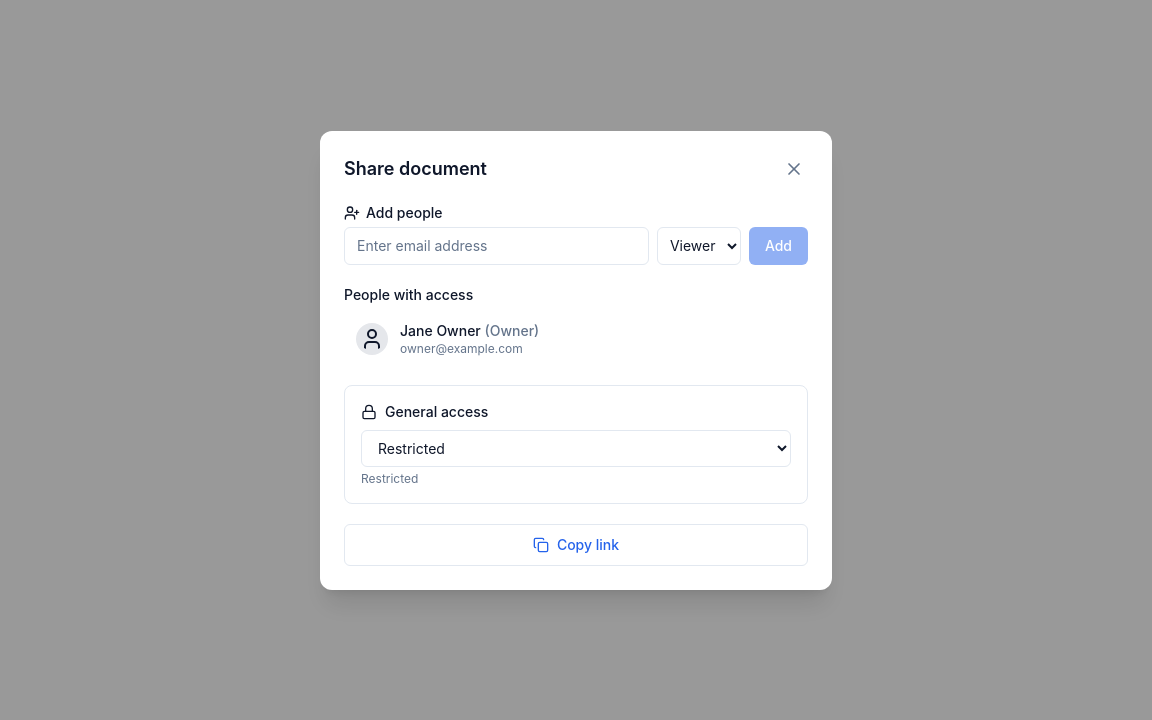
Test: ShareDialog › add collaborator error: shows exact error detail from API response
This screenshot has width=1152, height=720.
Type "bad@example.com" into the field with placeholder "Enter email address" at (496, 246), box x1=344 y1=226 x2=649 y2=264
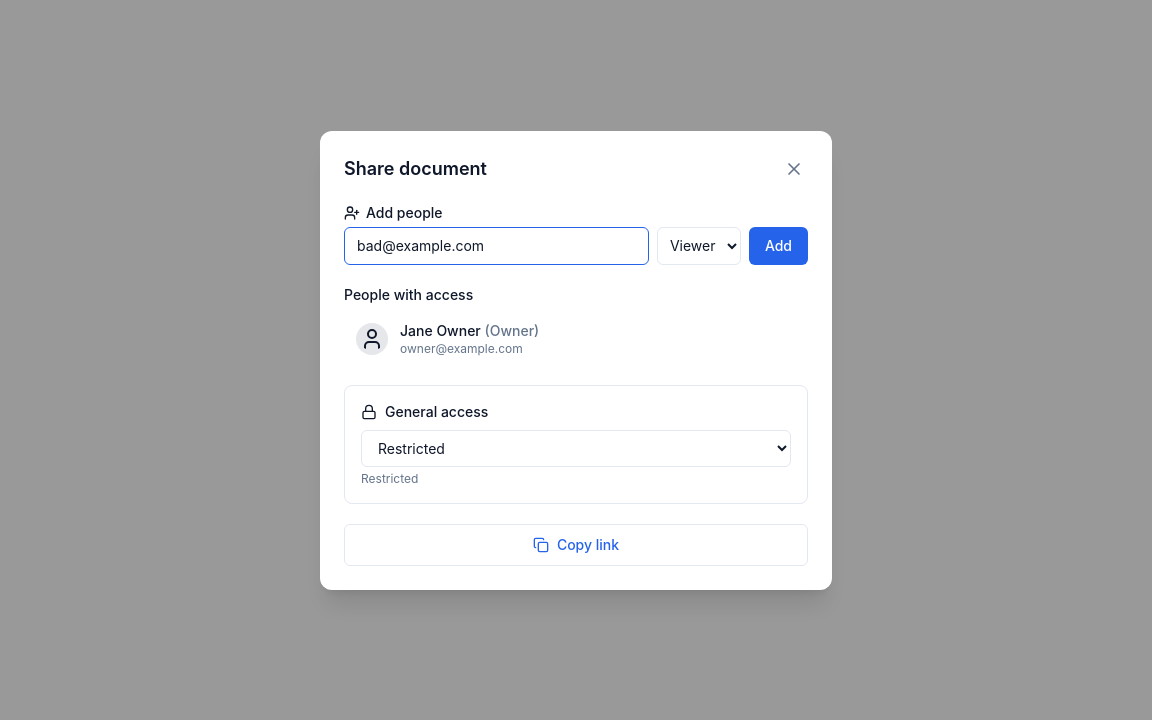
Click the button "Add" at (778, 246), box x1=749 y1=226 x2=808 y2=264
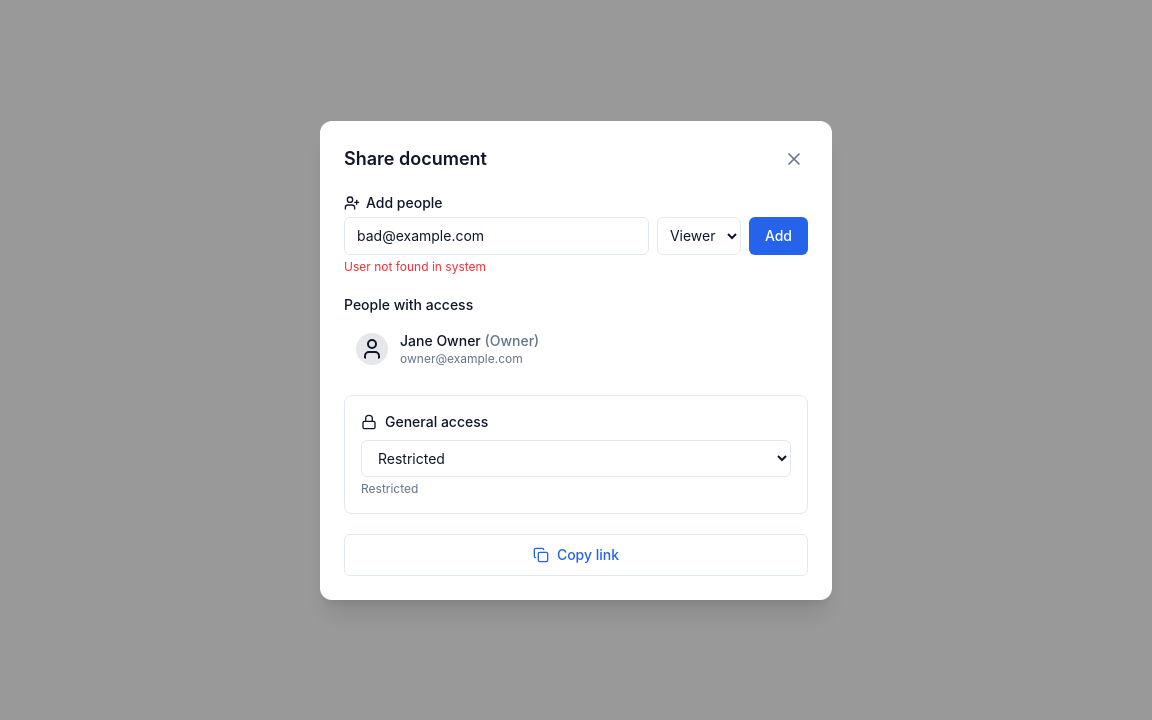
Check: the text "User not found in system" is shown, box x1=344 y1=258 x2=486 y2=274
